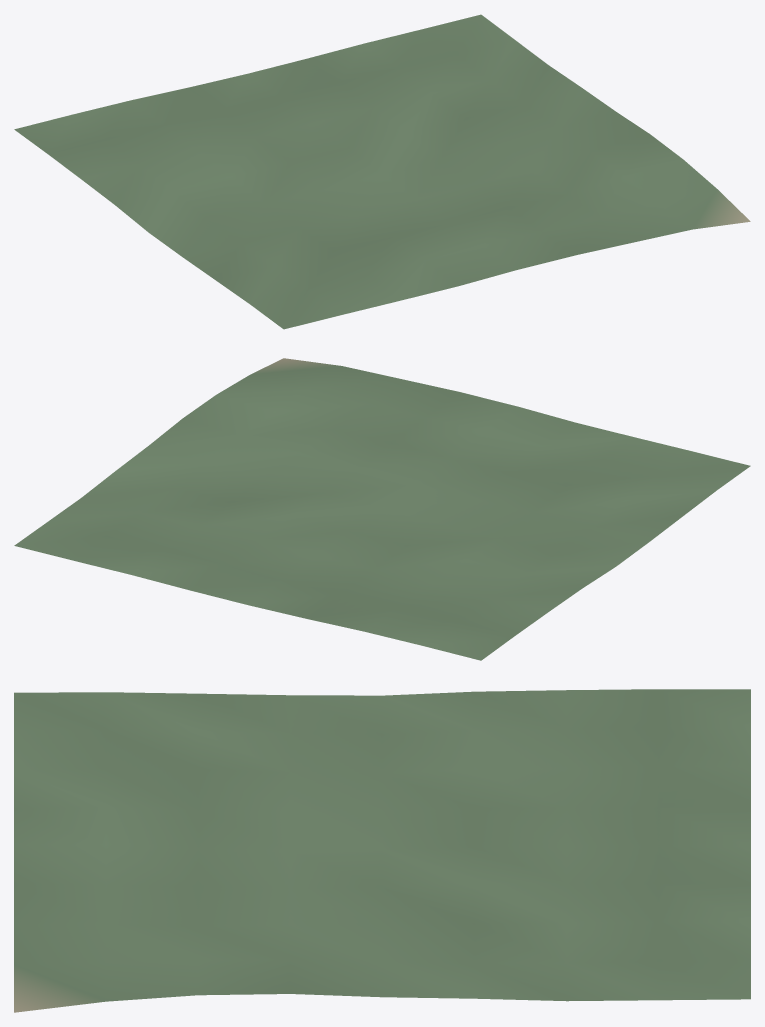
The picture shows the model from 3 angles, top to bottom: view 1: azimuth 30°, elevation 25°; view 2: azimuth 150°, elevation 25°; view 3: azimuth 270°, elevation 25°; orthographic projection. The views are drawn at different scales.
Visible parts, largest first — view 1: Lo; view 2: Lo; view 3: Lo.
Boxes of the visible parts, x1,y1,x2,y2 form: Lo: (14,14,750,329); Lo: (14,358,750,660); Lo: (14,689,750,1012).
Bounding box in the file's own units: 256 × 7.21 × 256.
